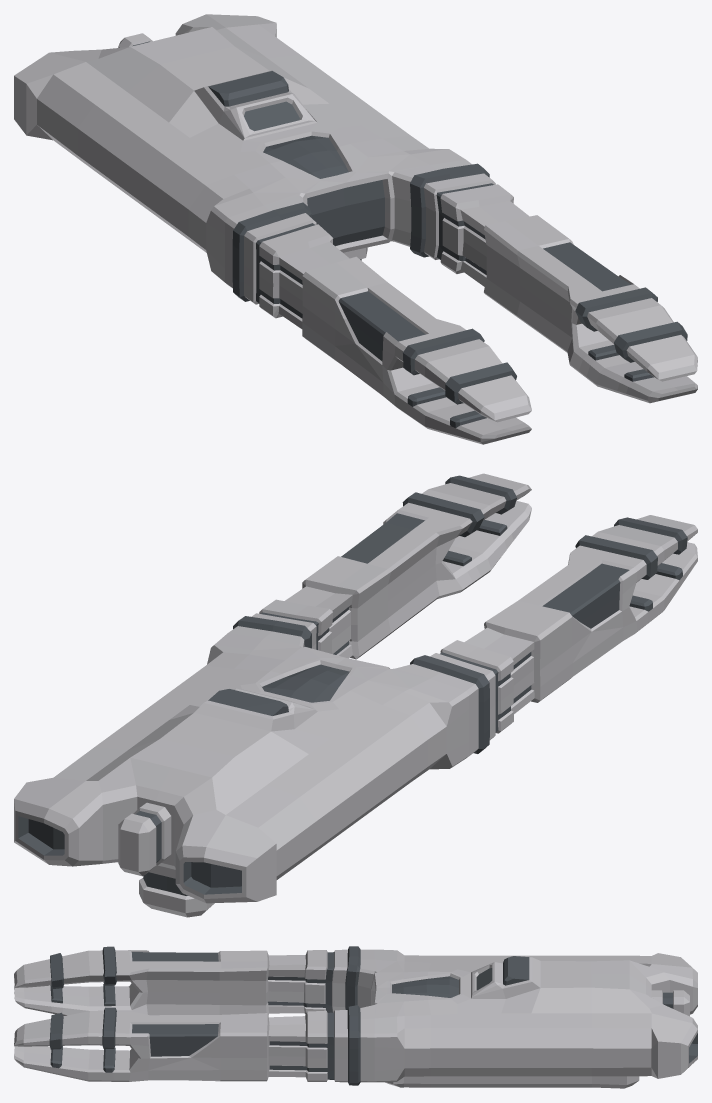
File: Fighter_01_.fbx
3 views of the same model, one above another, from view 1: azimuth 30°, elevation 25°; view 2: azimuth 150°, elevation 25°; view 3: azimuth 270°, elevation 25° (orthographic). The views are drawn at different scales.
Visible parts, largest first — view 1: Fighter_01_; view 2: Fighter_01_; view 3: Fighter_01_.
Boxes of the visible parts, <box> form: Fighter_01_: <box>14,14,697,444</box>; Fighter_01_: <box>14,473,697,917</box>; Fighter_01_: <box>14,946,697,1088</box>.
Size of the model in its own units: 380 by 225 by 1235.
Materials: 2 (2 with a texture image).
